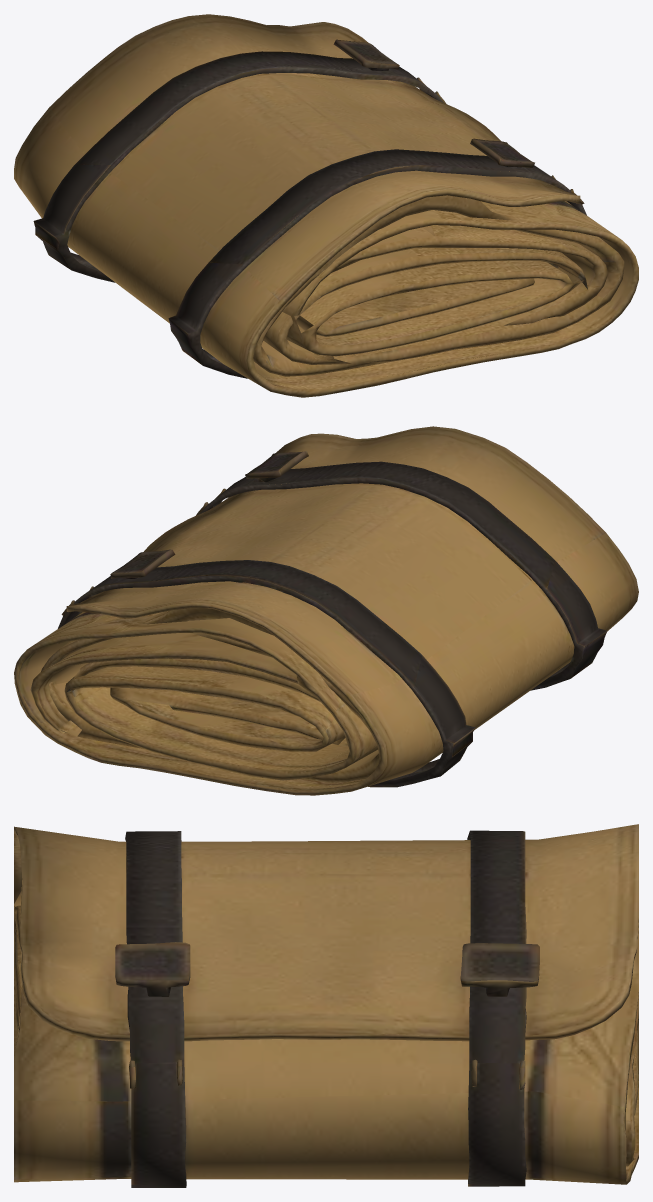
Rendered from kestrel-maintenance-roll.glb.
3 renders of one model, top to bottom at view 1: azimuth 30°, elevation 25°; view 2: azimuth 150°, elevation 25°; view 3: azimuth 270°, elevation 25°, orthographic. The views are drawn at different scales.
Parts seen in each view (by area): view 1: kestrel-maintenance-roll; view 2: kestrel-maintenance-roll; view 3: kestrel-maintenance-roll.
Part boxes in pixels (x1,y1,x2,y2): kestrel-maintenance-roll: (14, 14, 638, 397); kestrel-maintenance-roll: (14, 426, 638, 795); kestrel-maintenance-roll: (14, 824, 638, 1187).
Size of the model in its own units: 0.2787 by 0.13 by 0.2907.
1 material, 1 textured.
